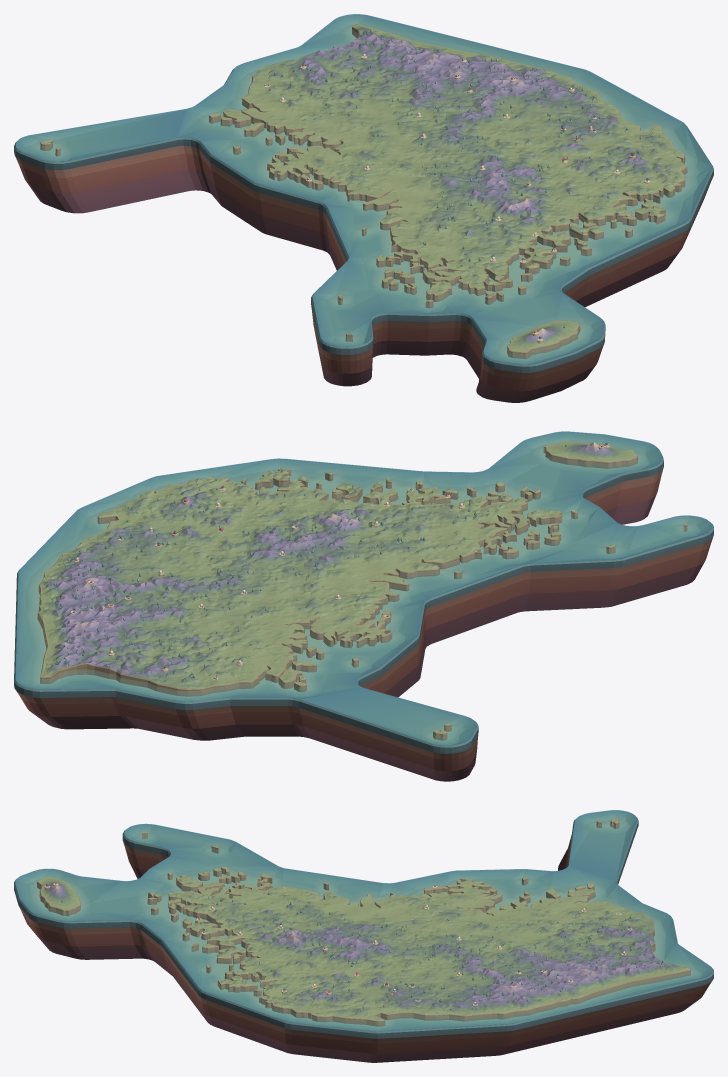
Rendered from korea.glb.
3 renders of one model, top to bottom at view 1: azimuth 30°, elevation 25°; view 2: azimuth 150°, elevation 25°; view 3: azimuth 270°, elevation 25°, orthographic. The views are drawn at different scales.
Visible parts, largest first — view 1: island, water, trees; view 2: island, water, trees; view 3: island, water, trees.
Part boxes in pixels (box(x1,y1,x2,y2)): island: box(14, 14, 713, 402); water: box(15, 14, 712, 364); trees: box(274, 29, 669, 327); island: box(14, 431, 713, 781); water: box(15, 431, 712, 745); trees: box(48, 444, 566, 678); island: box(14, 810, 713, 1062); water: box(15, 810, 712, 1031); trees: box(61, 891, 666, 1014).
Bounding box in the file's own units: 484 × 50.6 × 643.
